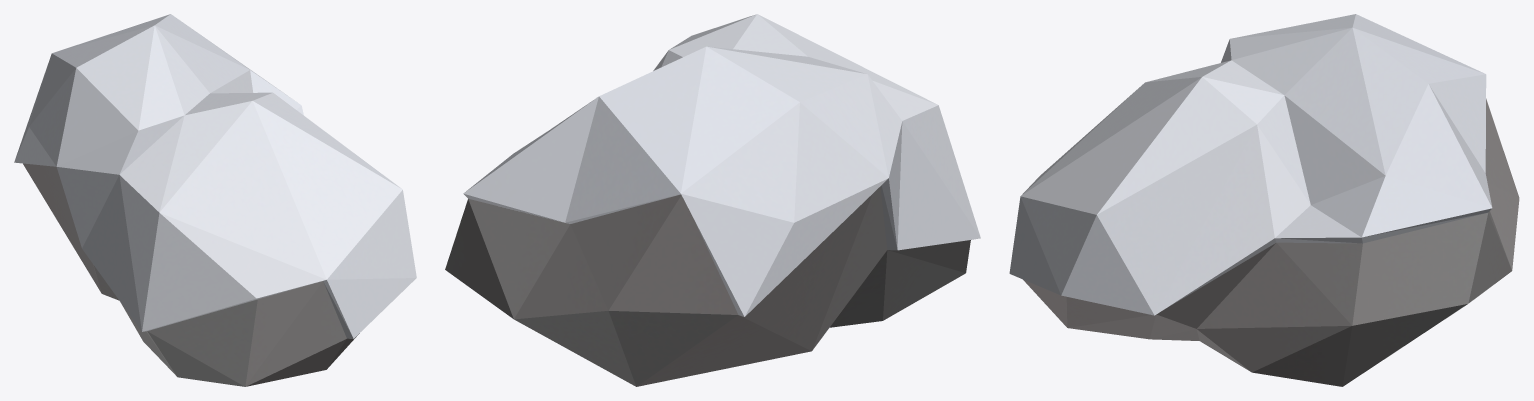
Rendered from Rock_3B.fbx.
The picture shows the model from 3 angles, left to right: view 1: azimuth 30°, elevation 25°; view 2: azimuth 150°, elevation 25°; view 3: azimuth 270°, elevation 25°; orthographic projection. The views are drawn at different scales.
Visible parts, largest first — view 1: Group64623; view 2: Group64623; view 3: Group64623.
Boxes of the visible parts, <box> form: Group64623: <box>14,14,416,386</box>; Group64623: <box>445,14,980,386</box>; Group64623: <box>1009,14,1519,386</box>.
Size of the model in its own units: 1.92 by 1.72 by 2.65.
Materials: 1 (1 with a texture image).
